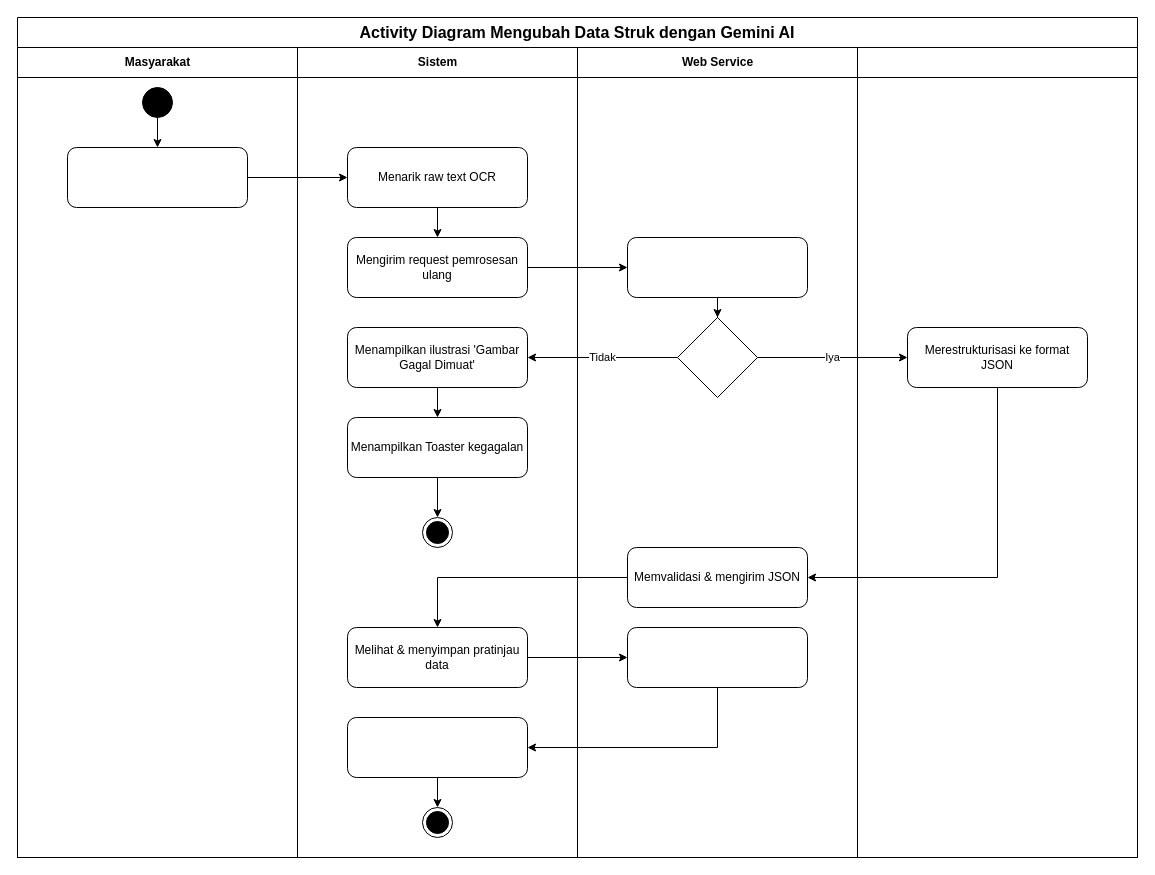
The diagram is 1155 pixels wide and 875 high, and some of its shapes have lost their labels. Each missing label, with the box of its shape:
Gemini AI: (856, 46, 1138, 858)
Menampilkan Toaster sukses: (346, 716, 528, 778)
Menekan opsi 'Perbaiki AI': (66, 146, 248, 208)
Meneruskan teks mentah & instruksi: (626, 236, 808, 298)
Menyimpan data: (626, 626, 808, 688)
Valid?: (676, 316, 758, 398)
